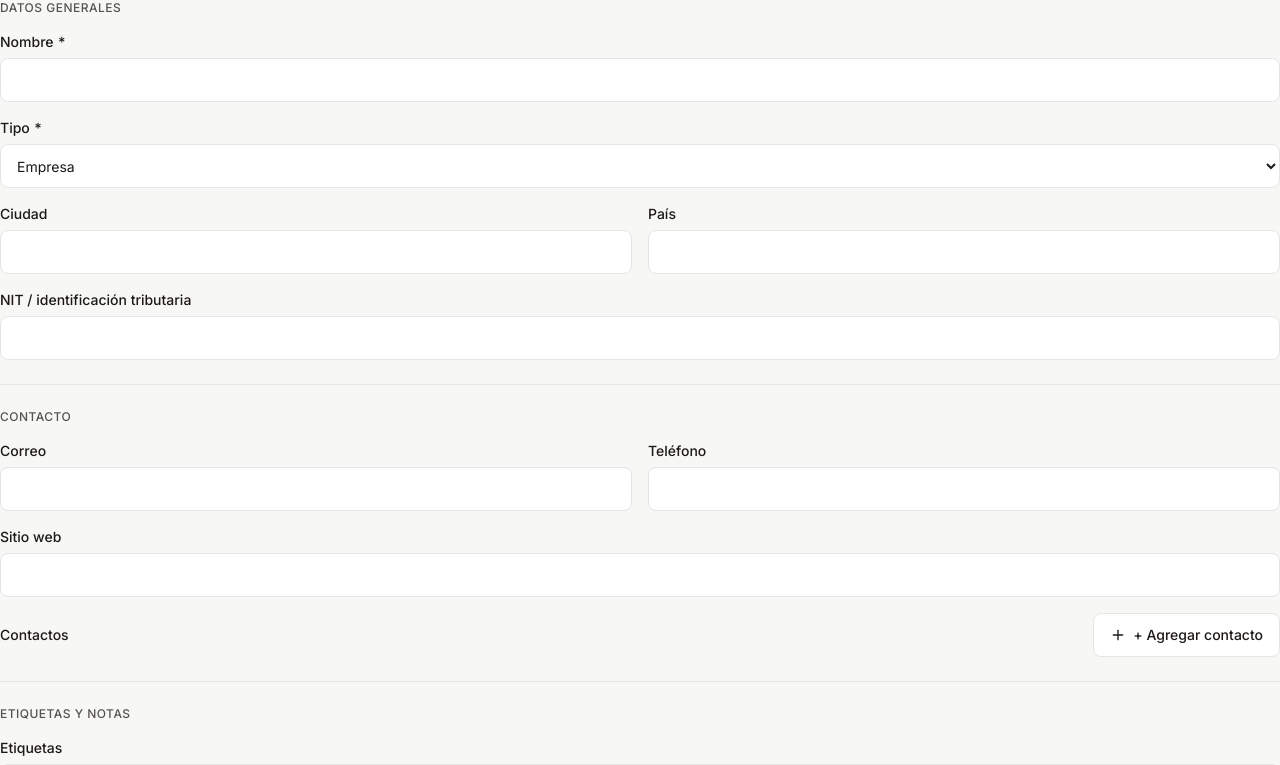
HU-01.2 mensajes traducidos en el formulario › muestra obligatorio, correo y URL inválidos en español
The width and height of the screenshot is (1280, 765).
In the field labelled "Correo": (316,489) [0,467,632,511], type "no-es-correo"
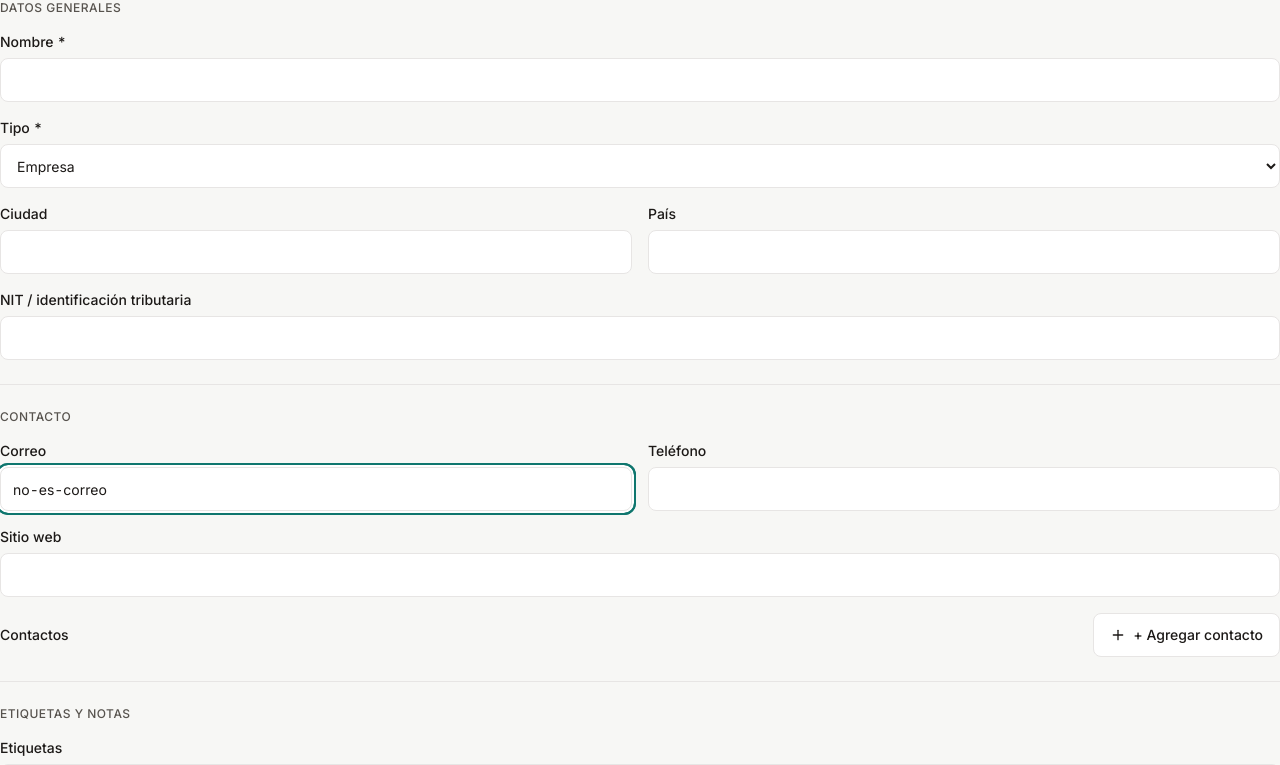
In the field labelled "Sitio web": (640,575) [0,553,1279,597], type "no-url"
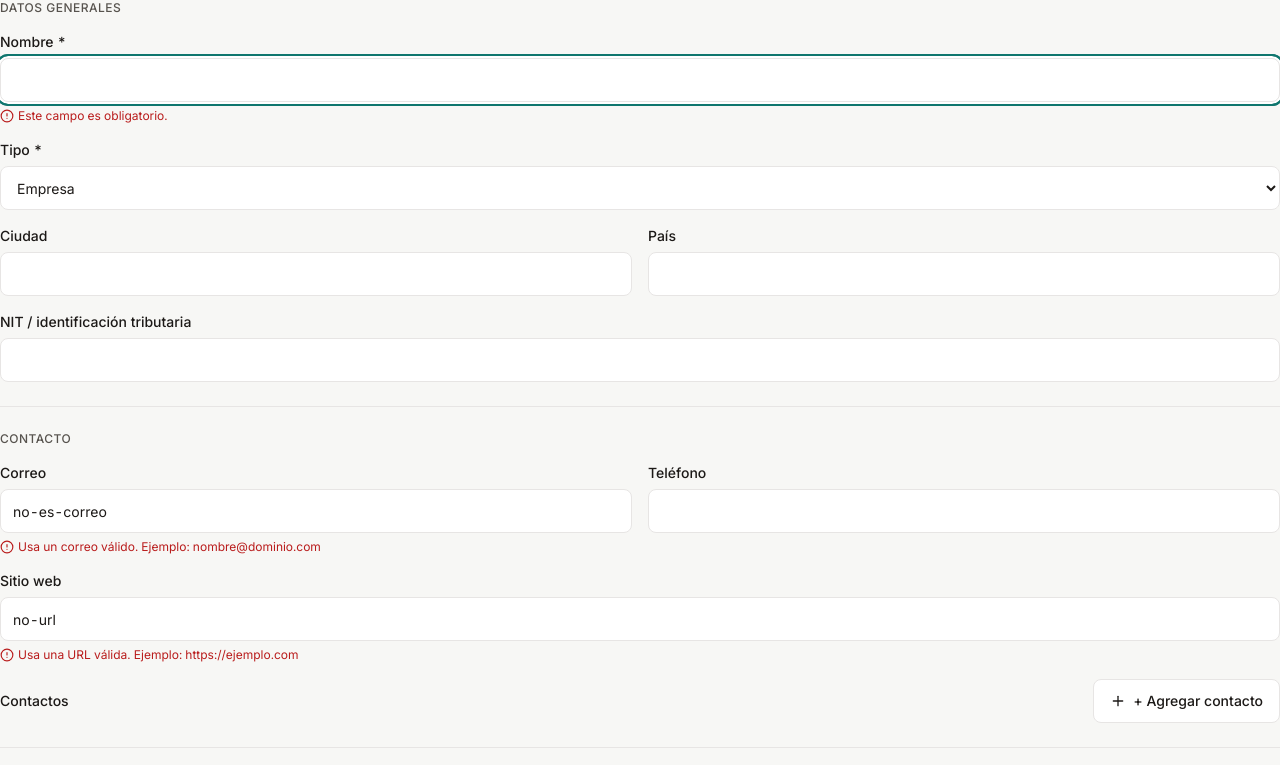
Check: the text "Este campo es obligatorio." is shown, box [0,108,168,123]
Check: the text "Usa un correo válido. Ejemplo: nombre@dominio.com" is shown, box [0,539,321,554]
Check: the text "Usa una URL válida. Ejemplo: https://ejemplo.com" is shown, box [0,647,298,662]
